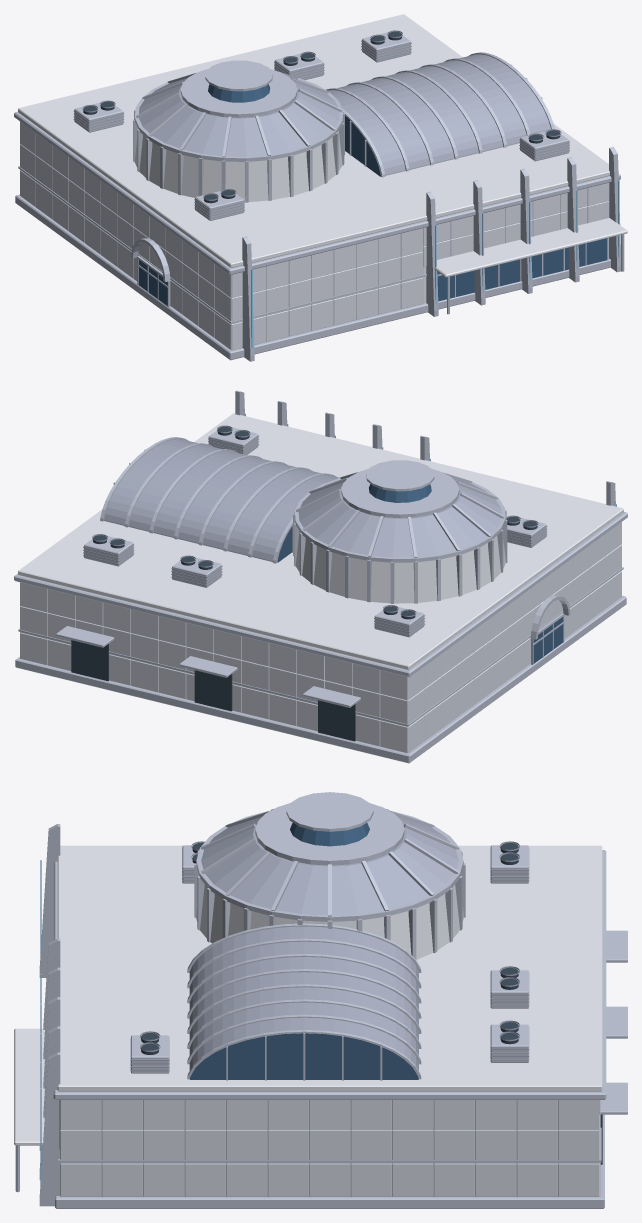
Rendered from north-building.glb.
3 renders of one model, top to bottom at view 1: azimuth 30°, elevation 25°; view 2: azimuth 150°, elevation 25°; view 3: azimuth 270°, elevation 25°, orthographic. The views are drawn at different scales.
Parts seen in each view (by area): view 1: north-building_white, north-building_silver, north-building_panel, north-building_roof, north-building_glass, north-building_dark, north-building_blueSoft; view 2: north-building_white, north-building_panel, north-building_silver, north-building_roof, north-building_dark, north-building_glass; view 3: north-building_white, north-building_silver, north-building_panel, north-building_roof, north-building_glass, north-building_dark, north-building_blueSoft.
Boxes of the visible parts, <box> form: north-building_white: <box>18,14,627,349</box>; north-building_silver: <box>14,30,624,361</box>; north-building_panel: <box>20,121,609,350</box>; north-building_roof: <box>73,30,569,219</box>; north-building_glass: <box>138,84,606,305</box>; north-building_dark: <box>83,31,560,203</box>; north-building_blueSoft: <box>251,180,619,349</box>; north-building_white: <box>18,413,623,752</box>; north-building_panel: <box>20,522,621,753</box>; north-building_silver: <box>14,390,627,763</box>; north-building_roof: <box>83,425,547,635</box>; north-building_dark: <box>71,426,537,741</box>; north-building_glass: <box>277,484,562,663</box>; north-building_white: <box>14,845,602,1145</box>; north-building_silver: <box>15,792,627,1208</box>; north-building_panel: <box>59,1100,600,1196</box>; north-building_roof: <box>130,816,529,1071</box>; north-building_glass: <box>190,823,418,1079</box>; north-building_dark: <box>141,843,602,1164</box>; north-building_blueSoft: <box>40,860,41,1185</box>.
Size of the model in its own units: 45.4 by 19.63 by 47.8.
